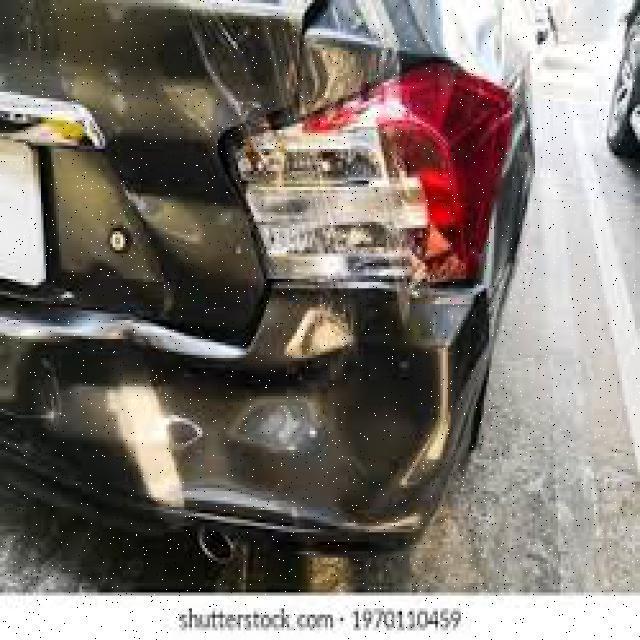Taillight-Damage: (235, 73, 507, 276)
rear-bumper-dent: (0, 257, 522, 555)
